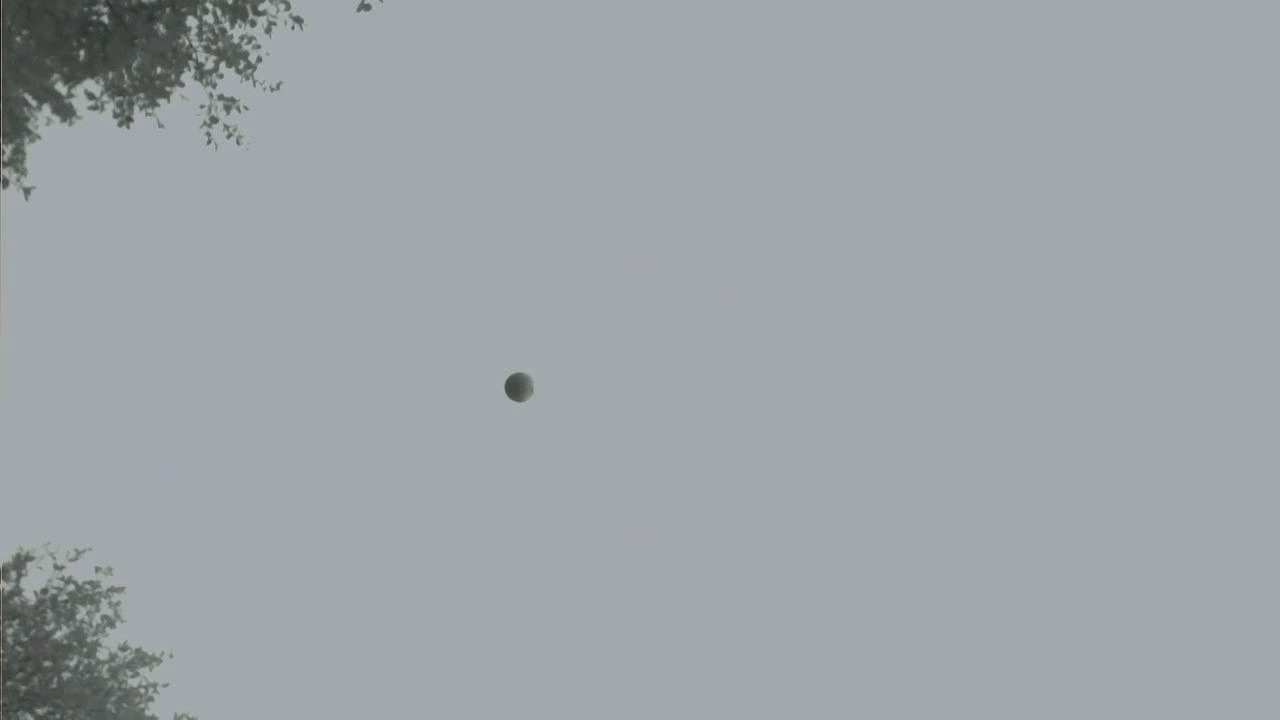Football-Spotter: (505, 372, 533, 401)
